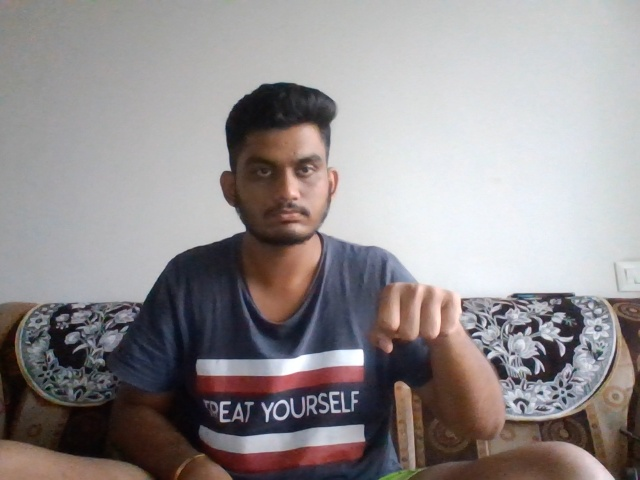Yes: (366, 280, 466, 357)
